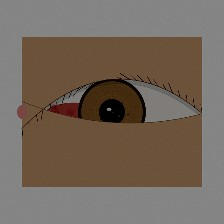hemorrhage_spot: (34, 84, 112, 146)
